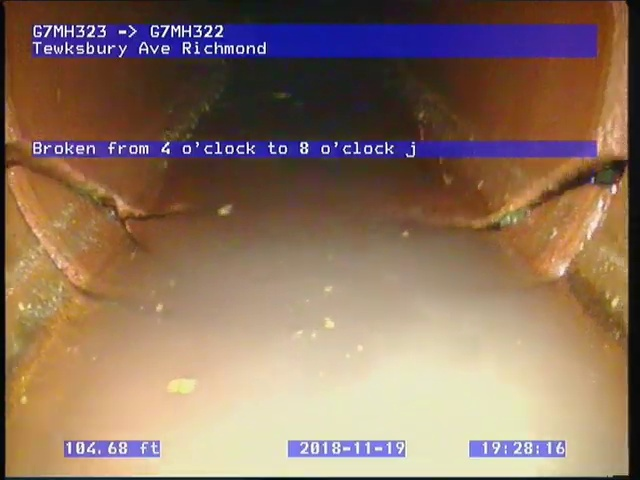crack: (3, 134, 173, 256), (461, 154, 628, 236)
